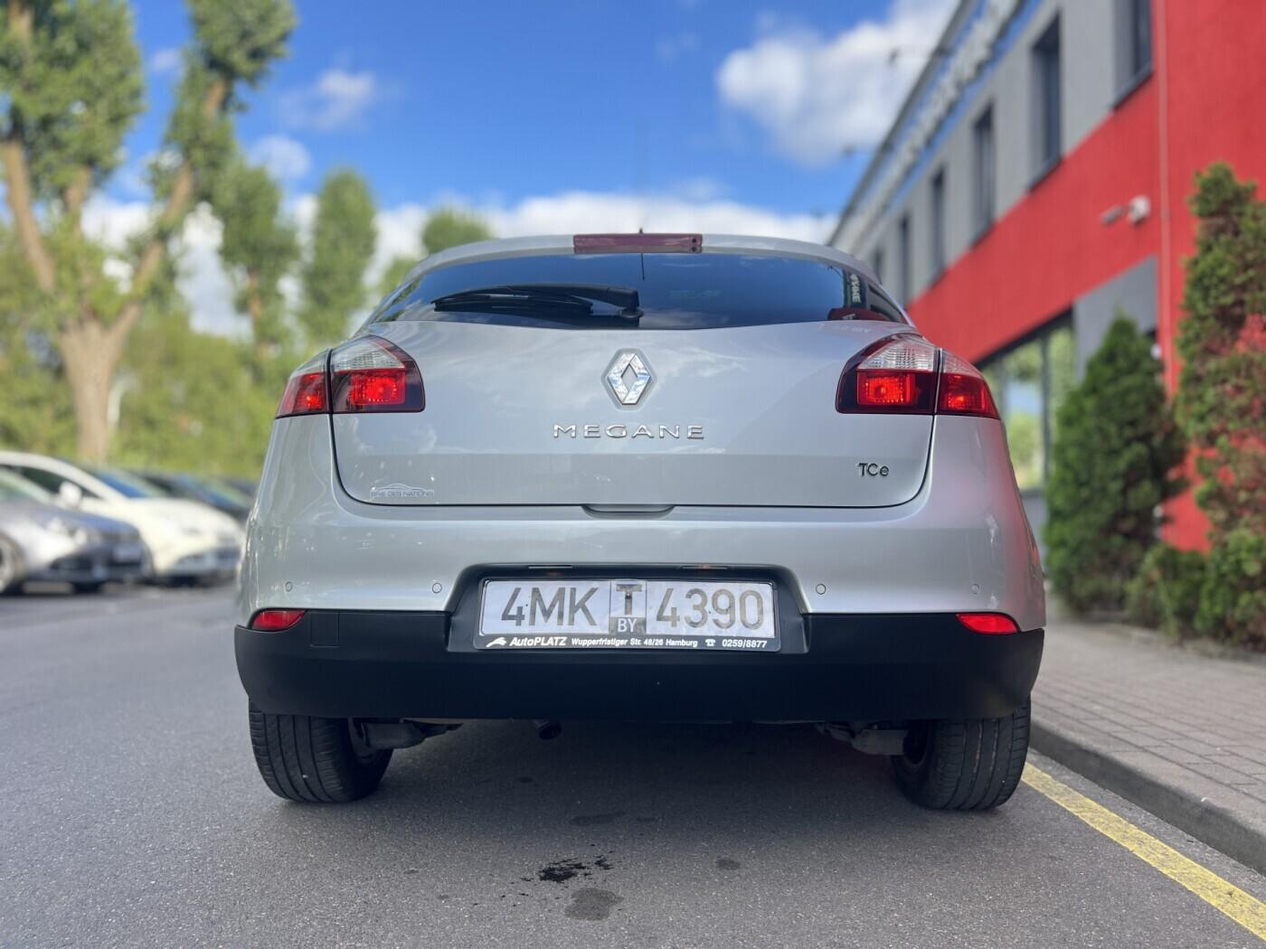Megane_2014-2016: (235, 230, 1057, 815)
